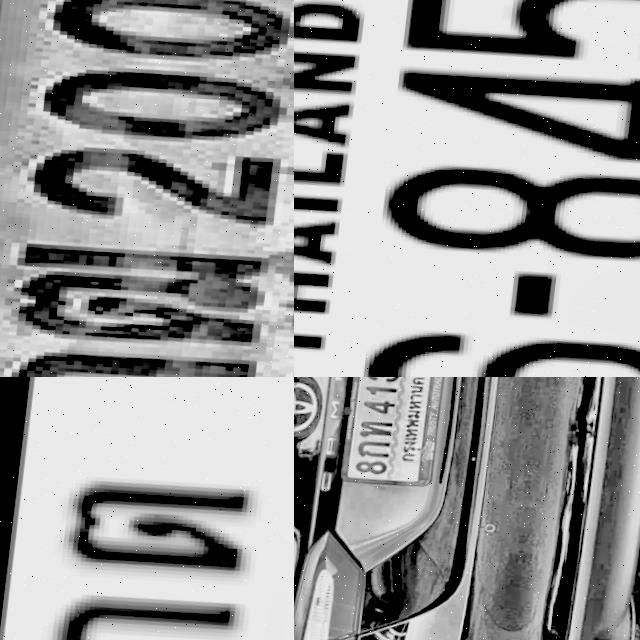license-plate: (294, 0, 640, 377), (0, 0, 294, 377), (0, 377, 294, 640), (340, 377, 452, 493)
